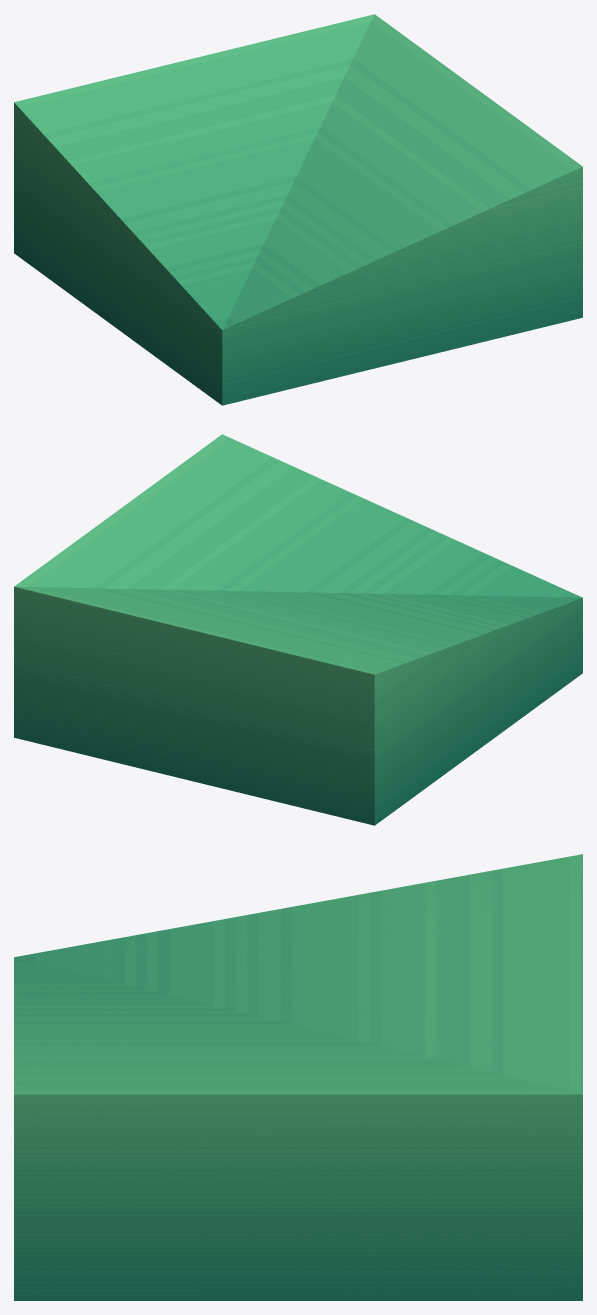
Rendered from tile-corner-inner.glb.
The picture shows the model from 3 angles, top to bottom: view 1: azimuth 30°, elevation 25°; view 2: azimuth 150°, elevation 25°; view 3: azimuth 270°, elevation 25°; orthographic projection. The views are drawn at different scales.
Visible parts, largest first — view 1: tile-corner-inner; view 2: tile-corner-inner; view 3: tile-corner-inner.
Boxes of the visible parts, <box> form: tile-corner-inner: <box>14,14,582,405</box>; tile-corner-inner: <box>14,434,582,825</box>; tile-corner-inner: <box>14,854,582,1300</box>.
Size of the model in its own units: 1 by 0.4 by 1.
Materials: 1 (1 with a texture image).
